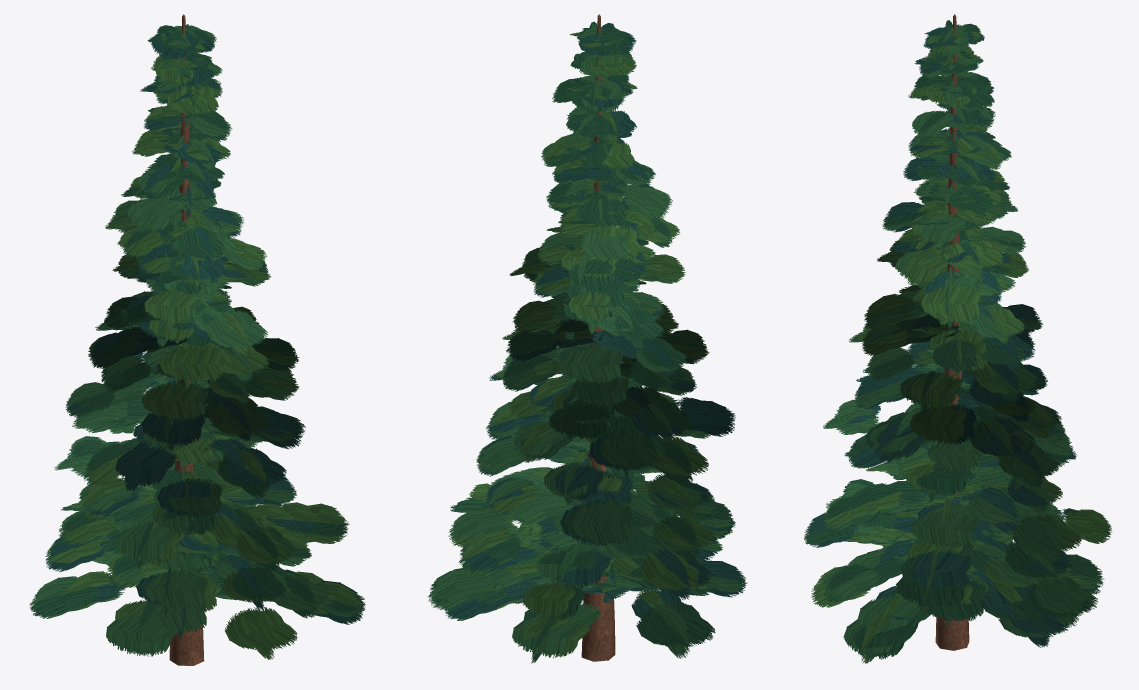
File: hero_spruce_b_lod1.obj
3 views of the same model, side by side, from view 1: azimuth 30°, elevation 25°; view 2: azimuth 150°, elevation 25°; view 3: azimuth 270°, elevation 25° (orthographic). The views are drawn at different scales.
Visible parts, largest first — view 1: hero_spruce_b_lod1; view 2: hero_spruce_b_lod1; view 3: hero_spruce_b_lod1.
Boxes of the visible parts, x1,y1,x2,y2 form: hero_spruce_b_lod1: (30,14,365,665); hero_spruce_b_lod1: (427,14,747,663); hero_spruce_b_lod1: (804,14,1112,663).
Bounding box in the file's own units: 6.62 × 13.2 × 6.35.
2 materials, 2 textured.
